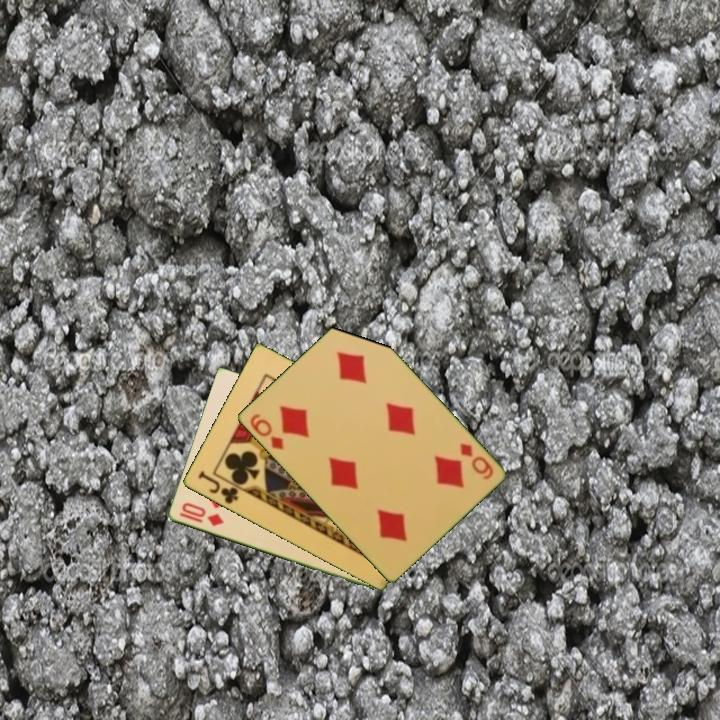10d: (176, 499, 226, 530)
6d: (246, 410, 286, 453), (456, 439, 496, 482)
Jc: (194, 468, 241, 507)
